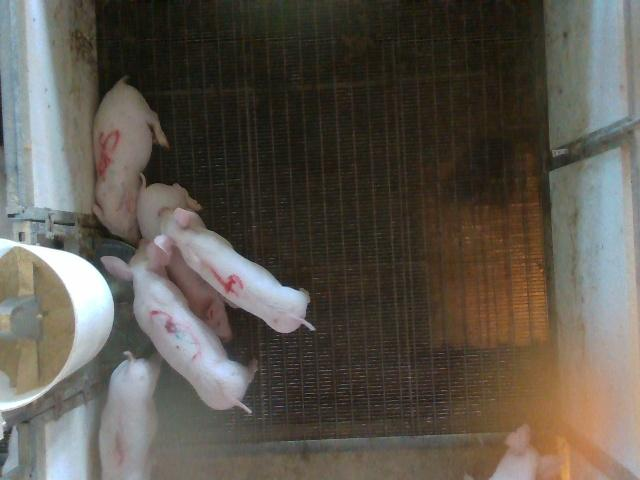pig-1: (101, 351, 161, 478)
pig-3: (102, 241, 256, 411)
pig-4: (154, 208, 315, 332)
pig-5: (92, 78, 169, 244)
